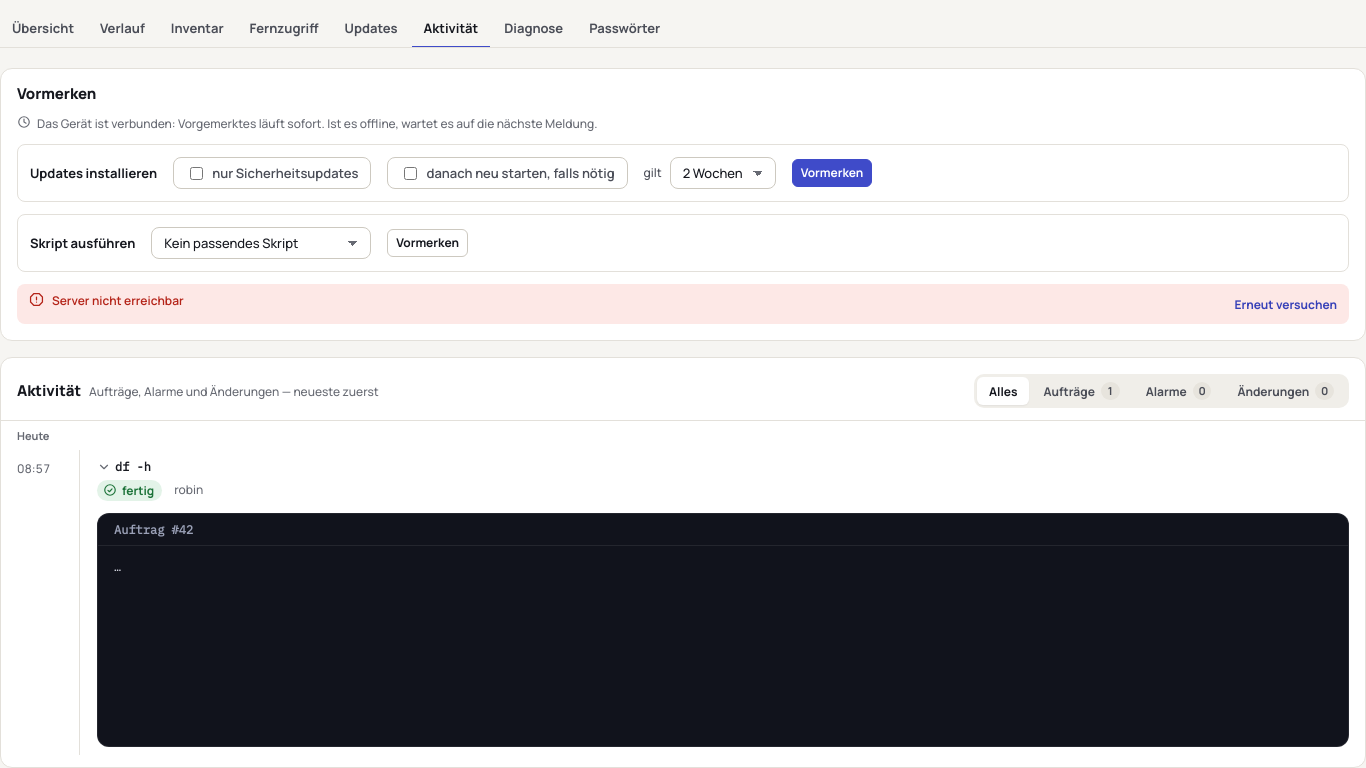
Test case: DevicePage › opens a job linked from a toast
(page scrolled)
expect the text "Auftrag #42" is shown: met, box [114,522,193,537]
Click the button "df -h": click(133, 467) [97,458,1349,476]
(page scrolled)
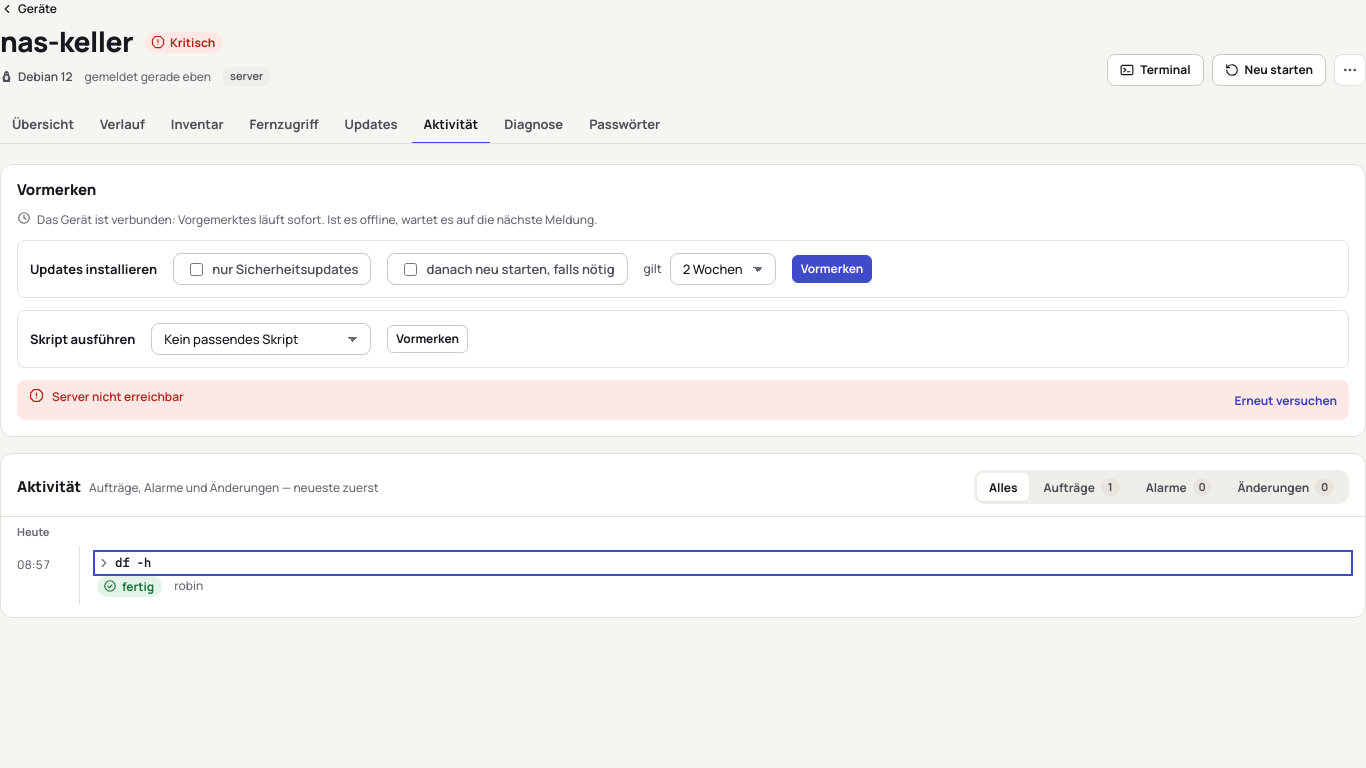
expect the button "df -h" is collapsed: met, box [97,554,1349,572]
